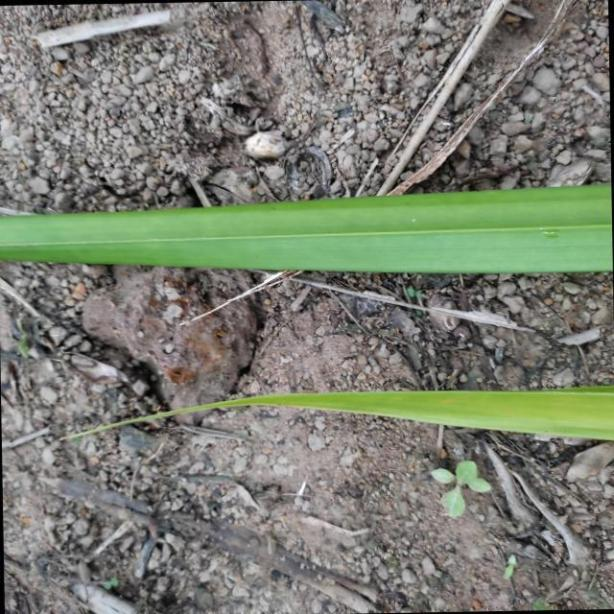nitrogen: (1, 183, 614, 273), (38, 382, 614, 441)
